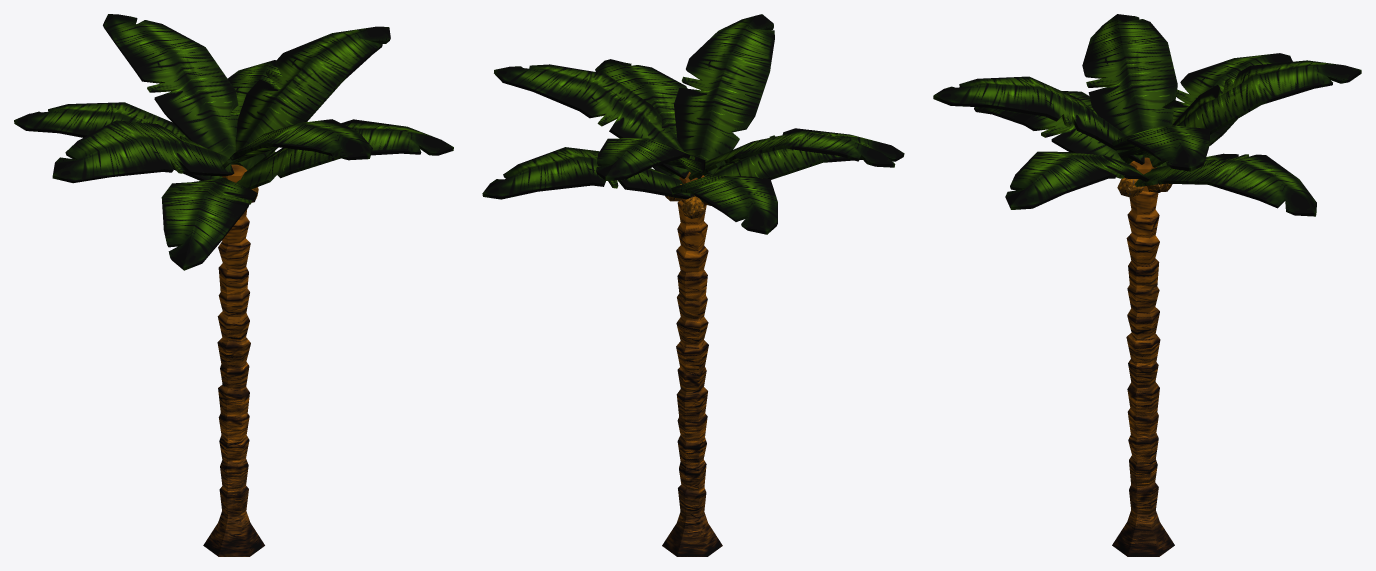
File: Palme_C01.fbx
The picture shows the model from 3 angles, left to right: view 1: azimuth 30°, elevation 25°; view 2: azimuth 150°, elevation 25°; view 3: azimuth 270°, elevation 25°; orthographic projection. The views are drawn at different scales.
Parts seen in each view (by area): view 1: PalbeSubs.002, PalbeSubs.005, PalbeSubs.006, PalbeSubs.004, PalbeSubs.008, PalbeSubs.010, PalbeSubs.011, PalbeSubs.007, PalbeSubs.009; view 2: PalbeSubs.002, PalbeSubs.007, PalbeSubs.006, PalbeSubs.009, PalbeSubs.011, PalbeSubs.004, PalbeSubs.005, PalbeSubs.008, PalbeSubs.010; view 3: PalbeSubs.002, PalbeSubs.004, PalbeSubs.005, PalbeSubs.007, PalbeSubs.009, PalbeSubs.010, PalbeSubs.006, PalbeSubs.011, PalbeSubs.008.
Part boxes in pixels (x1=…): PalbeSubs.002: x1=203, y1=164, x2=264, y2=556; PalbeSubs.005: x1=103, y1=14, x2=238, y2=158; PalbeSubs.006: x1=235, y1=26, x2=390, y2=170; PalbeSubs.004: x1=52, y1=120, x2=234, y2=183; PalbeSubs.008: x1=161, y1=177, x2=257, y2=270; PalbeSubs.010: x1=236, y1=119, x2=453, y2=189; PalbeSubs.011: x1=14, y1=102, x2=222, y2=180; PalbeSubs.007: x1=220, y1=119, x2=372, y2=169; PalbeSubs.009: x1=227, y1=60, x2=282, y2=170; PalbeSubs.002: x1=662, y1=172, x2=722, y2=556; PalbeSubs.007: x1=674, y1=14, x2=774, y2=174; PalbeSubs.006: x1=494, y1=64, x2=689, y2=178; PalbeSubs.009: x1=482, y1=147, x2=694, y2=199; PalbeSubs.011: x1=671, y1=174, x2=777, y2=234; PalbeSubs.004: x1=688, y1=131, x2=895, y2=180; PalbeSubs.005: x1=596, y1=138, x2=705, y2=180; PalbeSubs.008: x1=700, y1=128, x2=904, y2=201; PalbeSubs.010: x1=595, y1=59, x2=707, y2=179; PalbeSubs.002: x1=1112, y1=157, x2=1174, y2=556; PalbeSubs.004: x1=1082, y1=14, x2=1177, y2=135; PalbeSubs.005: x1=1149, y1=60, x2=1361, y2=167; PalbeSubs.007: x1=933, y1=76, x2=1144, y2=164; PalbeSubs.009: x1=1134, y1=153, x2=1316, y2=216; PalbeSubs.010: x1=1005, y1=151, x2=1148, y2=209; PalbeSubs.006: x1=1112, y1=124, x2=1209, y2=171; PalbeSubs.011: x1=1144, y1=53, x2=1292, y2=167; PalbeSubs.008: x1=974, y1=91, x2=1130, y2=164.
Size of the model in its own units: 1546 by 1839 by 1513.
3 materials, 3 textured.
